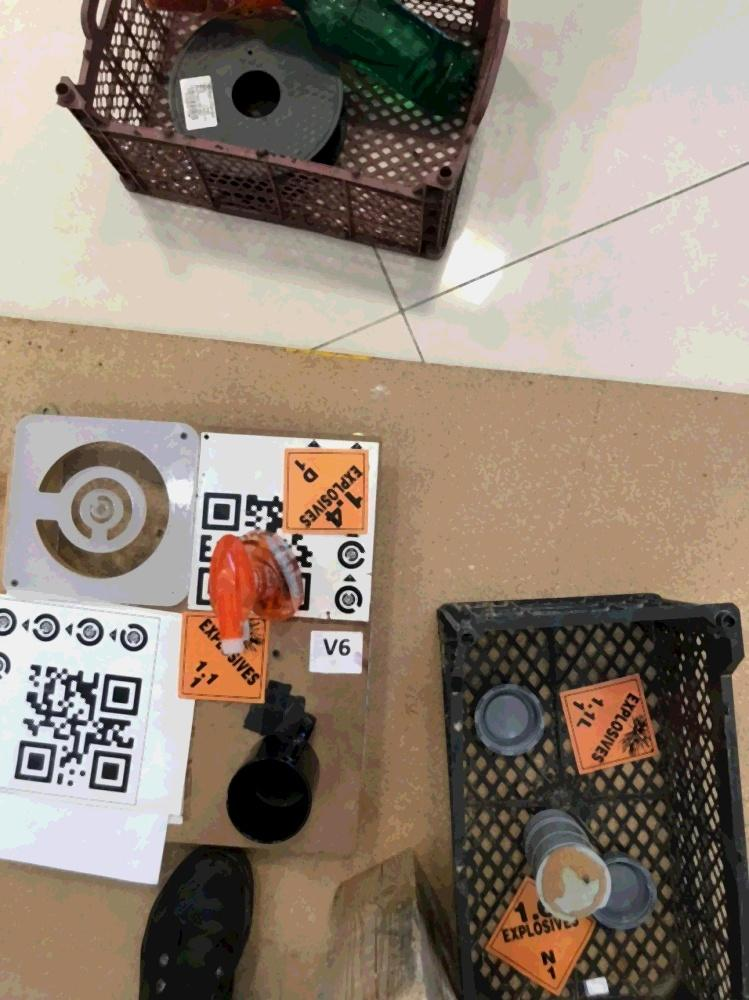explosive: (486, 876, 595, 995), (558, 673, 660, 773), (179, 610, 271, 705), (282, 448, 369, 536)
